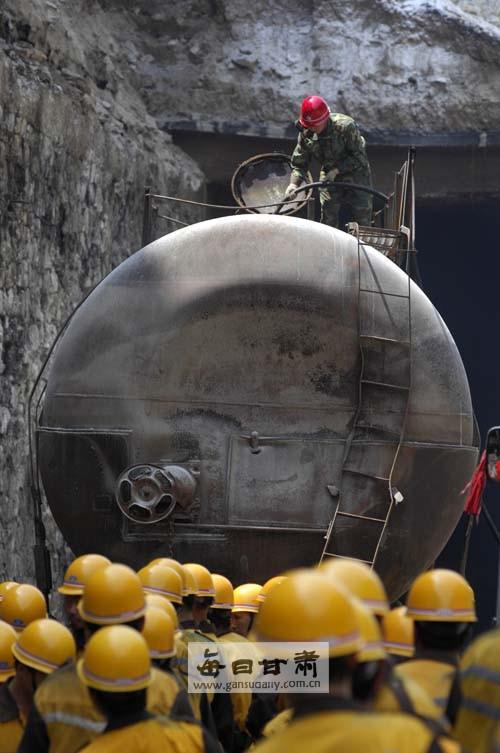helmet: (253, 566, 366, 700), (307, 544, 393, 637), (73, 623, 157, 715), (403, 564, 479, 659), (73, 564, 152, 629), (11, 616, 73, 695), (53, 548, 114, 613), (173, 557, 220, 627), (227, 580, 270, 641), (294, 89, 334, 130)
